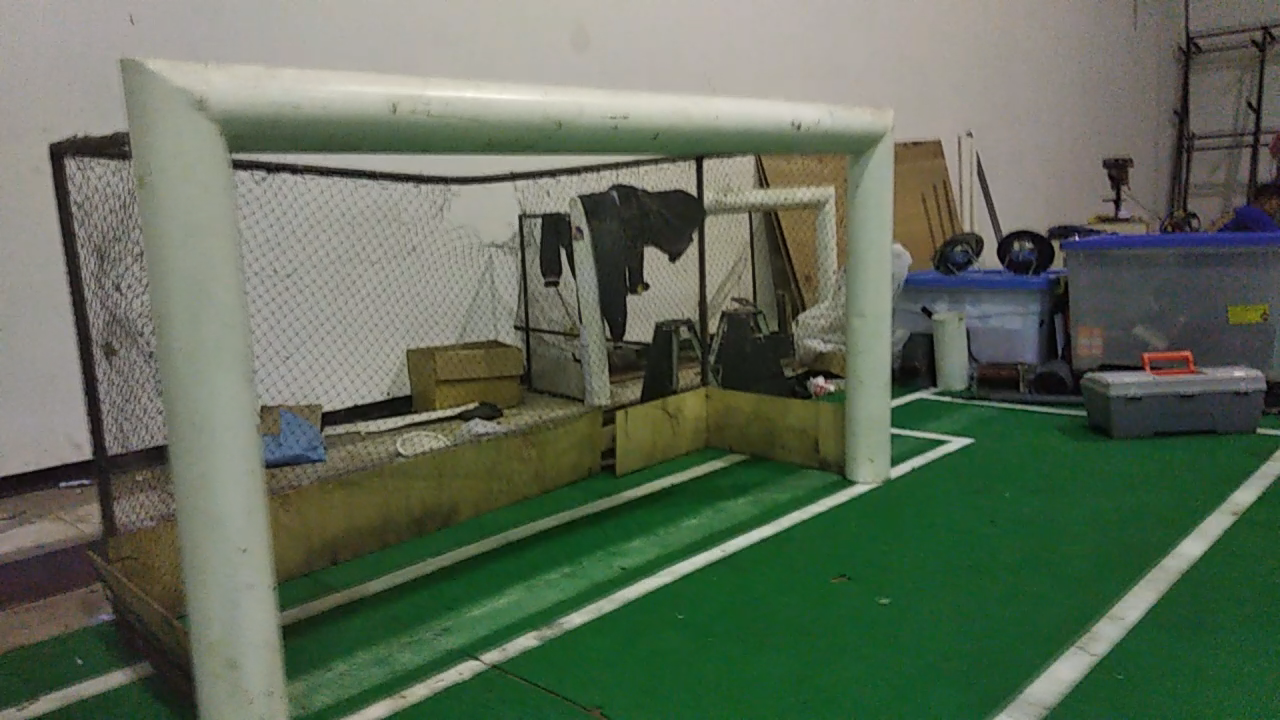gawang: (111, 41, 906, 716)
